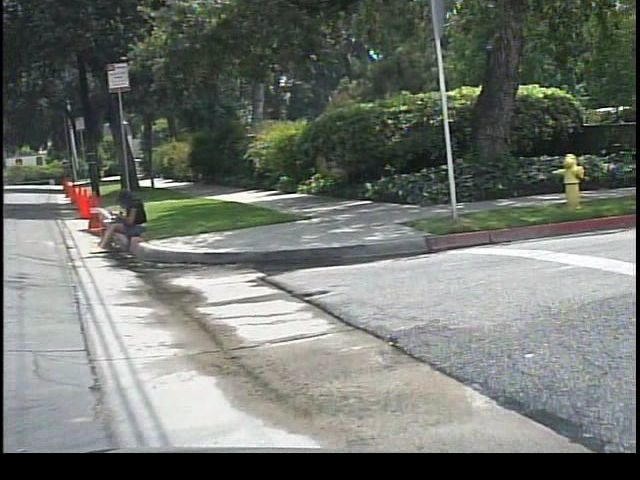person: (95, 186, 158, 255)
